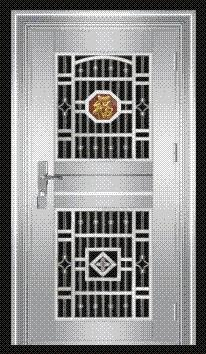door: (29, 24, 184, 347)
